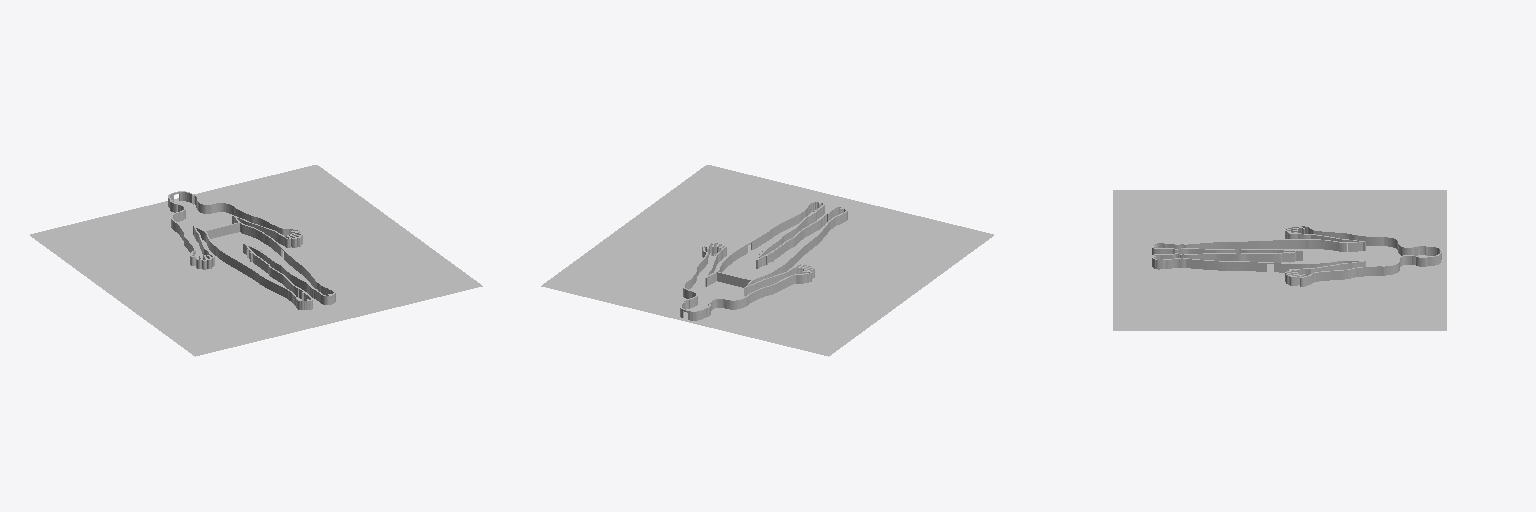
The model's file is muro_humano.obj.
3 views of the same model, side by side, from view 1: azimuth 30°, elevation 25°; view 2: azimuth 150°, elevation 25°; view 3: azimuth 270°, elevation 25° (orthographic).
Visible parts, largest first — view 1: human-silhouette-clipart-8.001; view 2: human-silhouette-clipart-8.001; view 3: human-silhouette-clipart-8.001.
Part boxes in pixels (left/top/right/bottom): human-silhouette-clipart-8.001: left=30, top=165, right=482, bottom=356; human-silhouette-clipart-8.001: left=541, top=165, right=993, bottom=356; human-silhouette-clipart-8.001: left=1113, top=190, right=1446, bottom=330.
Bounding box in the file's own units: 100 × 3 × 100.